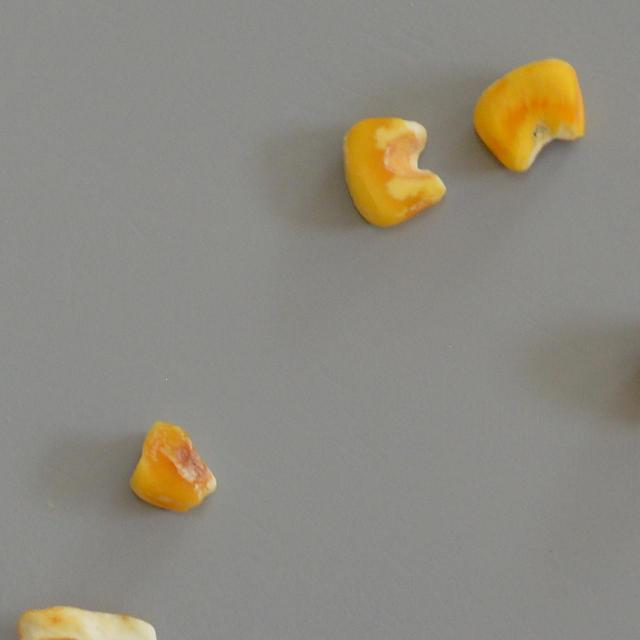dañado: (332, 100, 451, 236), (468, 56, 589, 180), (124, 414, 221, 517), (10, 596, 160, 640)
